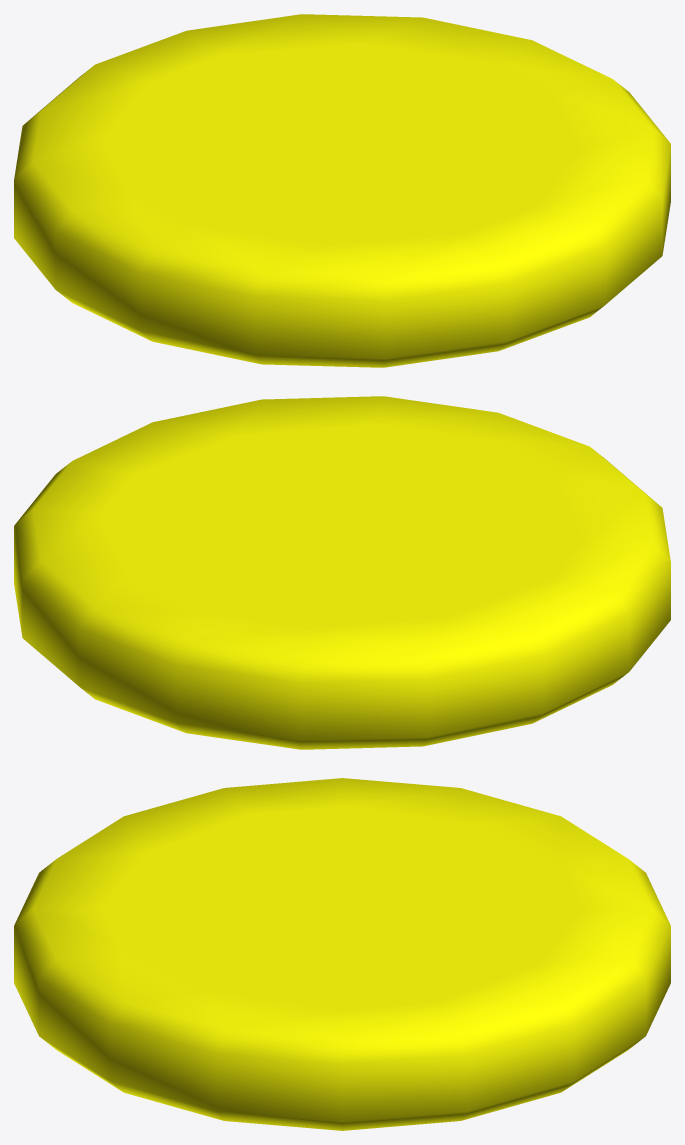
Rendered from food_ingredient_tomato_slice.gltf.
3 renders of one model, top to bottom at view 1: azimuth 30°, elevation 25°; view 2: azimuth 150°, elevation 25°; view 3: azimuth 270°, elevation 25°, orthographic.
Visible parts, largest first — view 1: food_ingredient_tomato_slice; view 2: food_ingredient_tomato_slice; view 3: food_ingredient_tomato_slice.
Part boxes in pixels (x1,y1,x2,y2): food_ingredient_tomato_slice: (14, 14, 670, 367); food_ingredient_tomato_slice: (14, 396, 670, 749); food_ingredient_tomato_slice: (14, 778, 670, 1130).
Bounding box in the file's own units: 0.65 × 0.1 × 0.65.
Materials: 1 (1 with a texture image).
